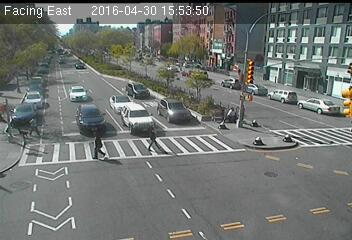neg: (260, 181, 284, 212), (135, 51, 155, 79), (210, 177, 230, 204), (173, 178, 193, 204), (181, 95, 200, 120), (314, 150, 332, 175), (178, 47, 195, 70), (253, 134, 269, 156), (285, 73, 301, 94), (238, 58, 254, 79), (91, 65, 106, 85), (118, 188, 133, 208), (48, 186, 63, 205), (287, 128, 300, 145), (46, 70, 57, 84)
pos: (85, 126, 107, 156), (143, 124, 164, 153), (26, 112, 42, 134), (225, 104, 238, 122)
